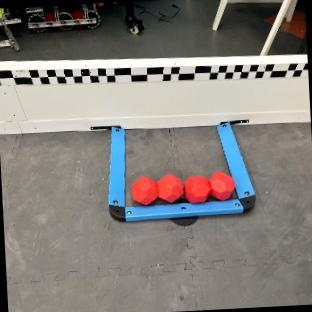V5_RED: (130, 171, 234, 205)
